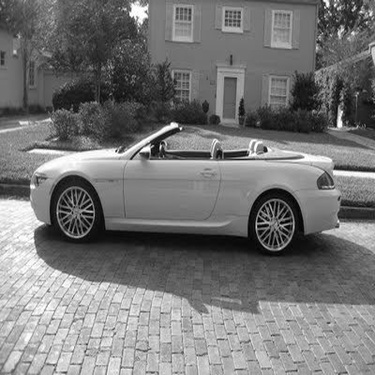car: (26, 119, 344, 260)
